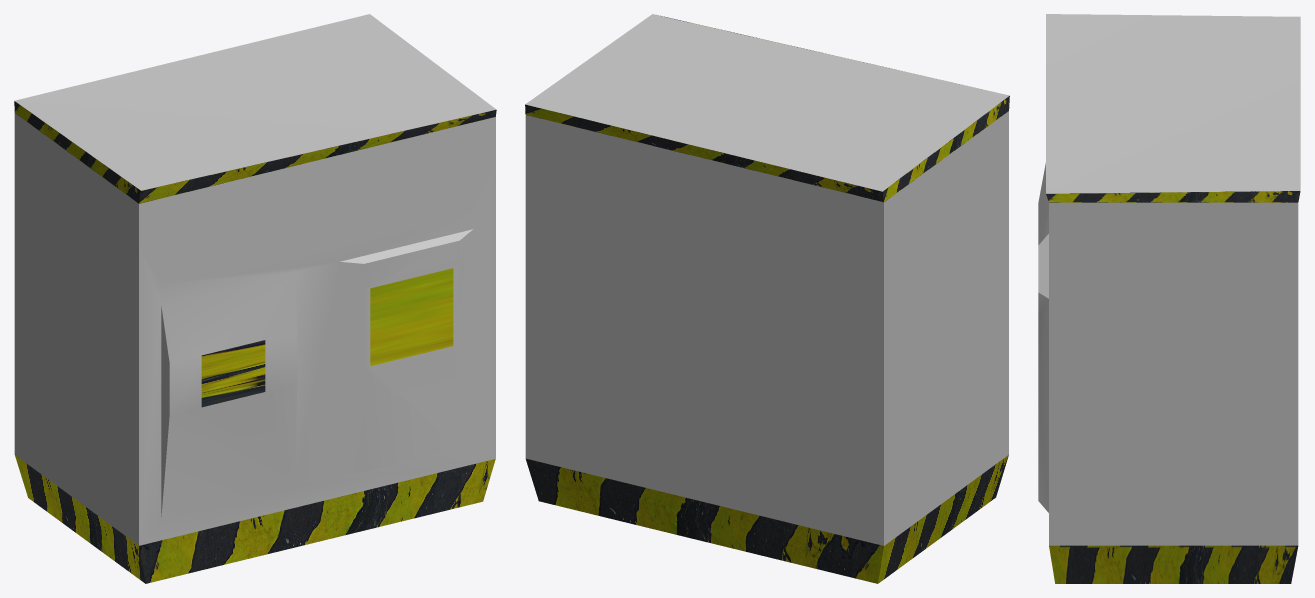
Rendered from ind4_electricbox_LOD1.fbx.
3 views of the same model, side by side, from view 1: azimuth 30°, elevation 25°; view 2: azimuth 150°, elevation 25°; view 3: azimuth 270°, elevation 25° (orthographic).
Parts seen in each view (by area): view 1: Mesh Object; view 2: Mesh Object; view 3: Mesh Object.
Part boxes in pixels (left/top/right/bottom): Mesh Object: left=14, top=14, right=496, bottom=583; Mesh Object: left=525, top=14, right=1009, bottom=583; Mesh Object: left=1038, top=14, right=1300, bottom=583.
Size of the model in its own units: 1.38 by 1.47 by 0.873.
